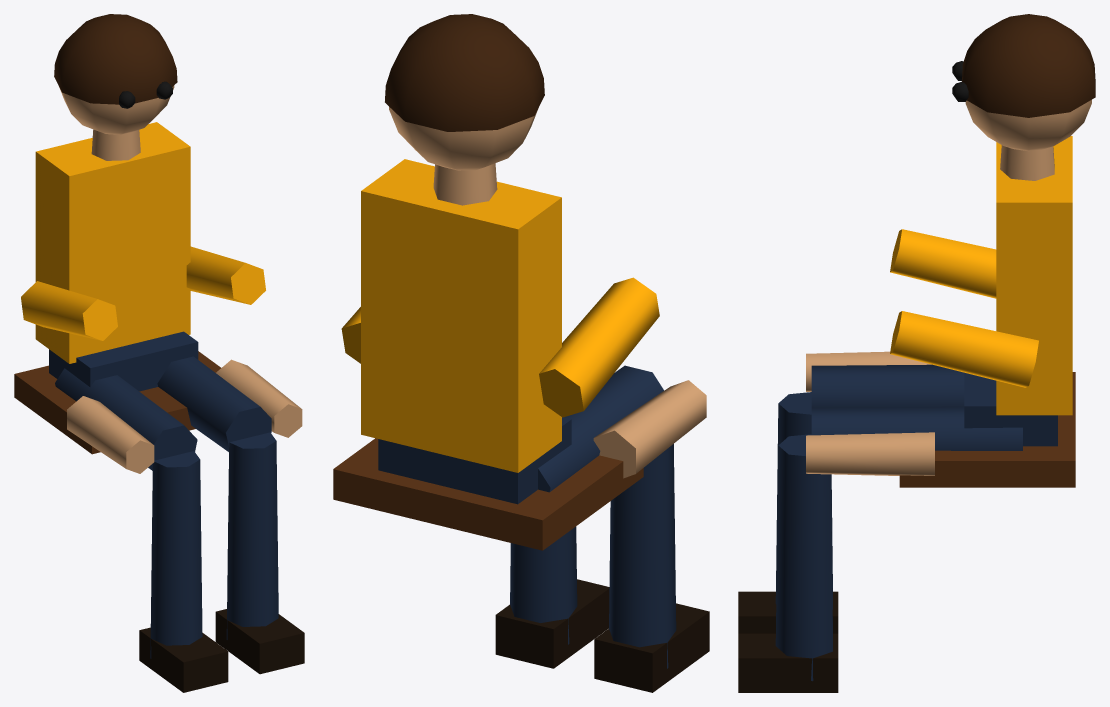
Rendered from crowd-seated-30.glb.
3 renders of one model, left to right at view 1: azimuth 30°, elevation 25°; view 2: azimuth 150°, elevation 25°; view 3: azimuth 270°, elevation 25°, orthographic. The views are drawn at different scales.
Parts seen in each view (by area): view 1: Torso, Left Shin, Right Shin, Hair Cap, Right Thigh, Left Thigh, Hips, Left Upper Arm, Left Shoe, Right Shoe, Left Lower Arm, Bench Seat (+4 smaller); view 2: Torso, Hair Cap, Bench Seat, Left Shin, Left Upper Arm, Hips, Left Shoe, Right Shoe, Left Lower Arm, Right Shin, Left Thigh, Head (+2 smaller); view 3: Torso, Right Shin, Hair Cap, Right Upper Arm, Bench Seat, Left Thigh, Right Thigh, Right Lower Arm, Left Upper Arm, Right Shoe, Head, Hips (+4 smaller).
Part boxes in pixels (x1,y1,x2,y2): Torso: (35, 122, 190, 363); Left Shin: (150, 451, 202, 658); Right Shin: (226, 432, 278, 639); Hair Cap: (54, 14, 177, 104); Right Thigh: (157, 356, 271, 451); Left Thigh: (55, 368, 197, 470); Hips: (49, 331, 198, 391); Left Upper Arm: (21, 281, 117, 340); Left Shoe: (139, 627, 228, 692); Right Shoe: (215, 609, 304, 674); Left Lower Arm: (67, 396, 154, 473); Bench Seat: (14, 351, 220, 454); Torso: (361, 159, 561, 472); Hair Cap: (385, 14, 544, 131); Bench Seat: (333, 438, 643, 550); Left Shin: (609, 444, 676, 668); Left Upper Arm: (539, 277, 659, 417); Hips: (378, 417, 571, 504); Left Shoe: (594, 603, 709, 692); Right Shoe: (495, 579, 609, 668); Left Lower Arm: (593, 380, 706, 478); Right Shin: (510, 526, 577, 644); Left Thigh: (538, 365, 663, 492); Head: (389, 107, 538, 170); Torso: (996, 136, 1072, 415); Right Shin: (775, 434, 832, 681); Hair Cap: (962, 14, 1095, 117); Right Upper Arm: (890, 311, 1038, 387); Bench Seat: (899, 372, 1075, 487); Left Thigh: (811, 364, 964, 407); Right Thigh: (811, 406, 1022, 450); Right Lower Arm: (806, 432, 934, 475); Left Upper Arm: (890, 229, 996, 298); Right Shoe: (738, 633, 838, 692); Head: (965, 99, 1091, 151); Hips: (964, 372, 1057, 446).
Size of the model in its own units: 0.4097 by 1.2 by 0.6089.
